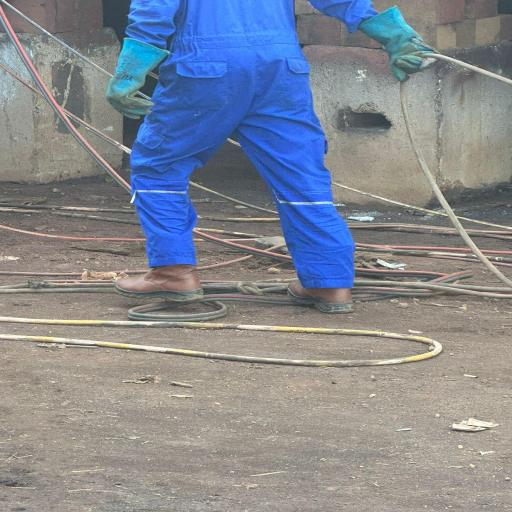safety_shoe: (102, 262, 207, 301), (288, 272, 366, 316)
